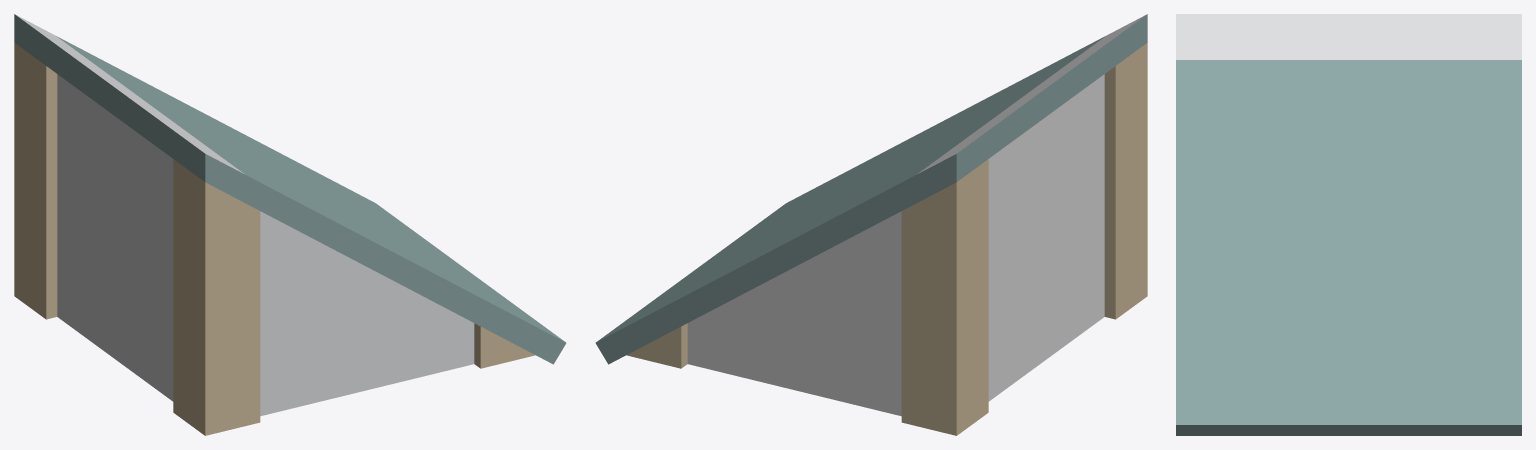
Rendered from Roof_Slant_Green_01.glb.
3 renders of one model, left to right at view 1: azimuth 30°, elevation 25°; view 2: azimuth 150°, elevation 25°; view 3: azimuth 270°, elevation 25°, orthographic. The views are drawn at different scales.
Visible parts, largest first — view 1: Mesh1 Roof_Slant_Green Model; view 2: Mesh1 Roof_Slant_Green Model; view 3: Mesh1 Roof_Slant_Green Model.
Boxes of the visible parts, bbox=[...] form: Mesh1 Roof_Slant_Green Model: bbox=[14, 14, 566, 435]; Mesh1 Roof_Slant_Green Model: bbox=[595, 14, 1147, 435]; Mesh1 Roof_Slant_Green Model: bbox=[1176, 14, 1521, 435].
Bounding box in the file's own units: 3.28 × 2.57 × 3.
